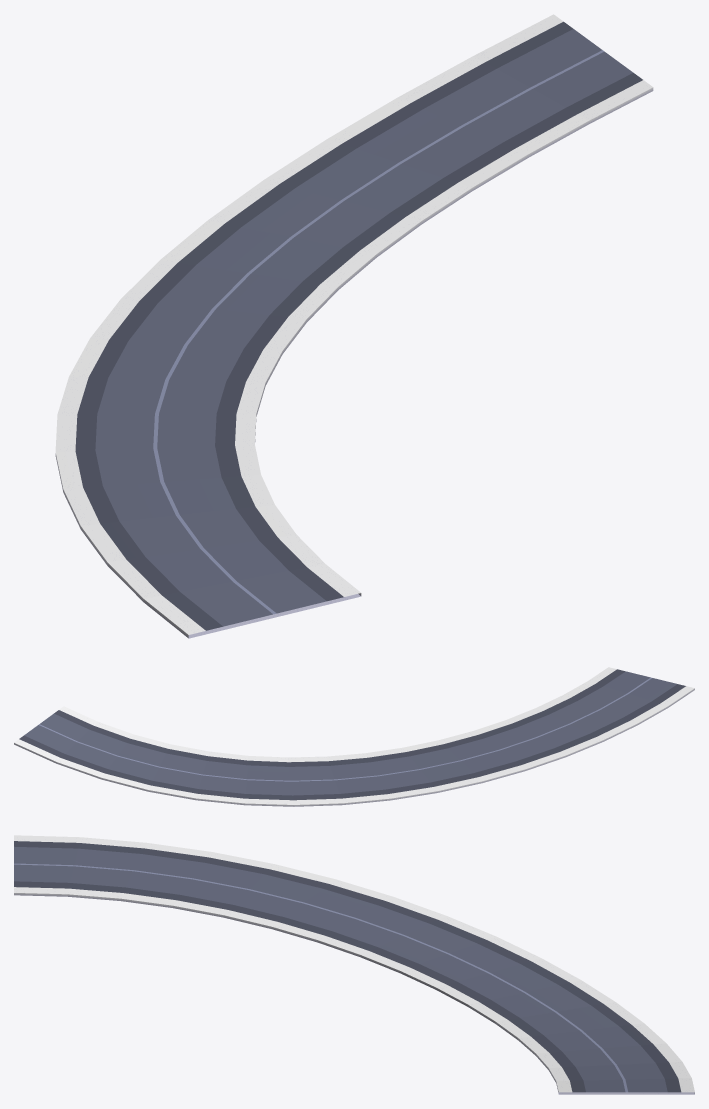
Rendered from road-Turn-Flat-BiSlopeUp-Up1-Right-Size5.glb.
3 views of the same model, one above another, from view 1: azimuth 30°, elevation 25°; view 2: azimuth 150°, elevation 25°; view 3: azimuth 270°, elevation 25° (orthographic). The views are drawn at different scales.
Visible parts, largest first — view 1: road-Turn-Flat-BiSlopeUp-Up1-Right-Size5; view 2: road-Turn-Flat-BiSlopeUp-Up1-Right-Size5; view 3: road-Turn-Flat-BiSlopeUp-Up1-Right-Size5.
Boxes of the visible parts, bbox=[...] form: road-Turn-Flat-BiSlopeUp-Up1-Right-Size5: bbox=[55, 14, 653, 638]; road-Turn-Flat-BiSlopeUp-Up1-Right-Size5: bbox=[14, 667, 694, 806]; road-Turn-Flat-BiSlopeUp-Up1-Right-Size5: bbox=[14, 835, 694, 1094].
Size of the model in its own units: 5 by 0.4083 by 5.
Materials: 1 (1 with a texture image).
